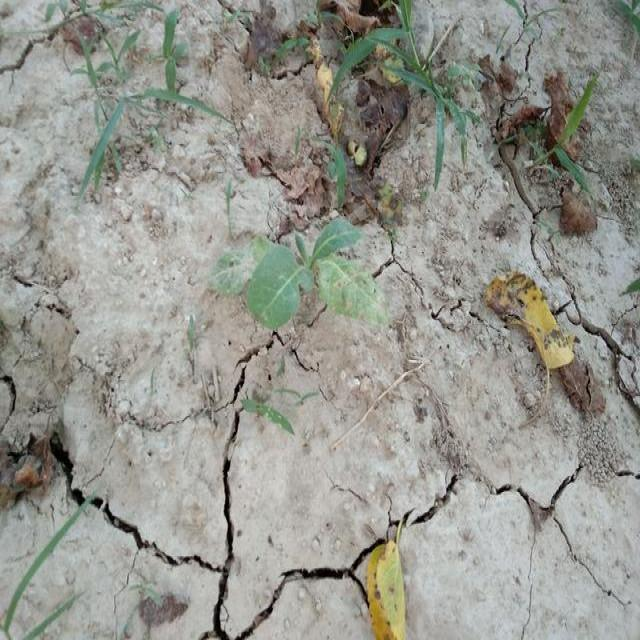crop: (194, 226, 371, 334)
